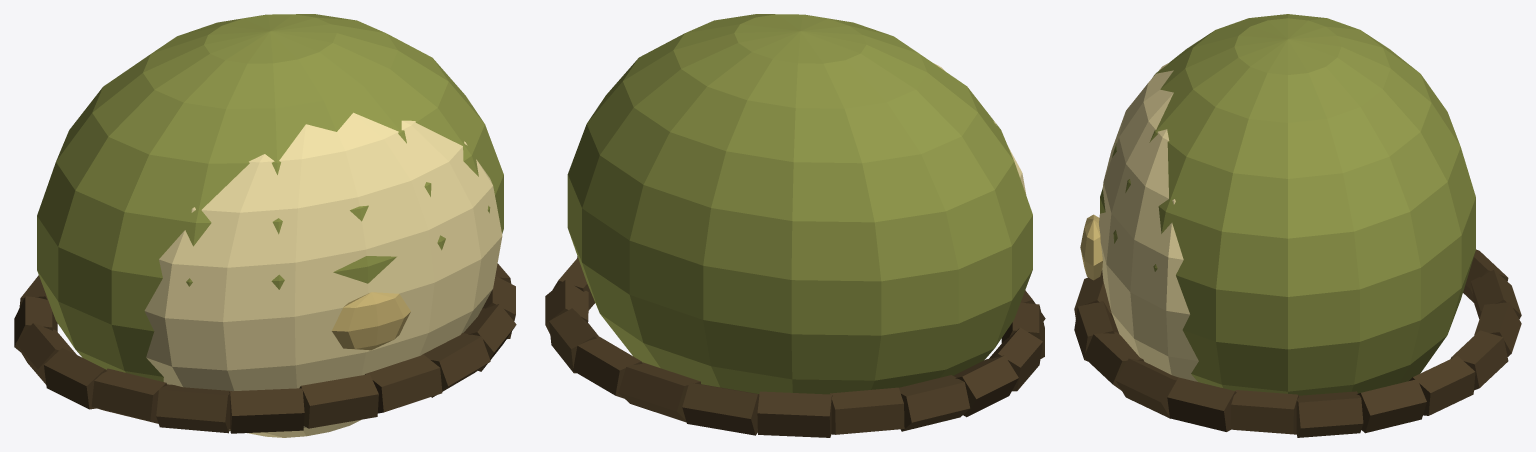
File: pondkin_bloatking_belly.glb
3 views of the same model, side by side, from view 1: azimuth 30°, elevation 25°; view 2: azimuth 150°, elevation 25°; view 3: azimuth 270°, elevation 25° (orthographic). The views are drawn at different scales.
Parts seen in each view (by area): view 1: pondkin_bloatking_belly; view 2: pondkin_bloatking_belly; view 3: pondkin_bloatking_belly.
Part boxes in pixels (left/top/right/bottom): pondkin_bloatking_belly: left=14, top=14, right=516, bottom=437; pondkin_bloatking_belly: left=545, top=14, right=1045, bottom=437; pondkin_bloatking_belly: left=1074, top=14, right=1521, bottom=437.
Bounding box in the file's own units: 1.14 × 0.92 × 1.01.
